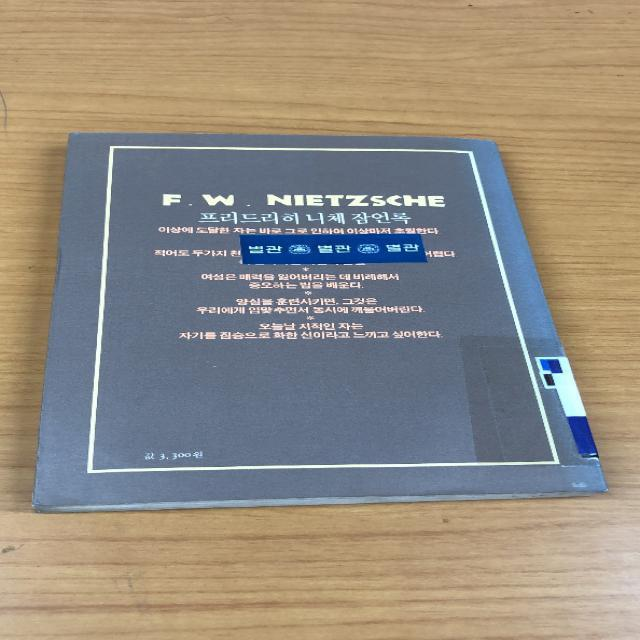Wornout: (488, 485, 616, 495), (30, 497, 100, 509), (180, 128, 228, 143), (442, 134, 500, 146)
